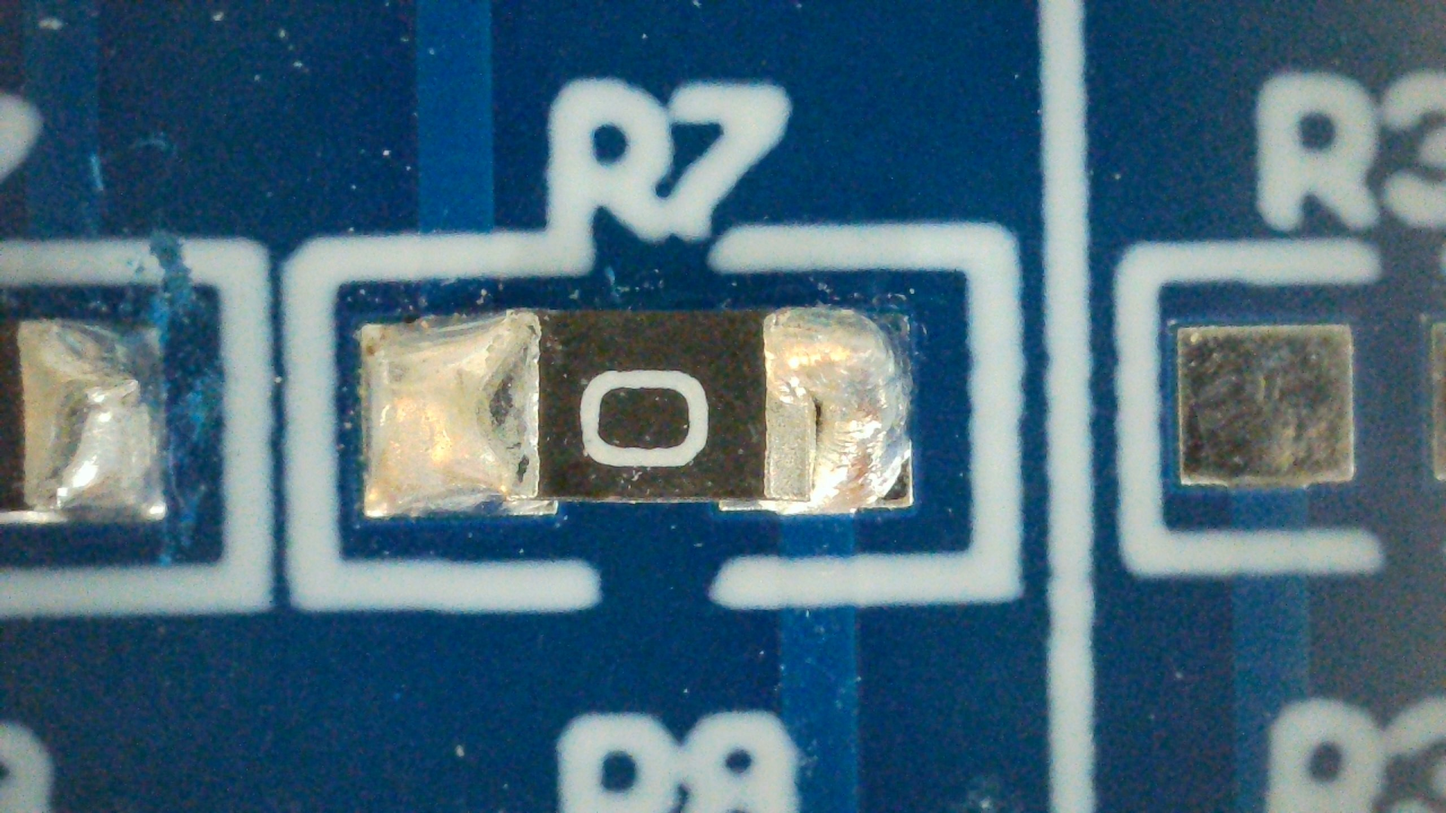NG: (363, 308, 913, 515)
